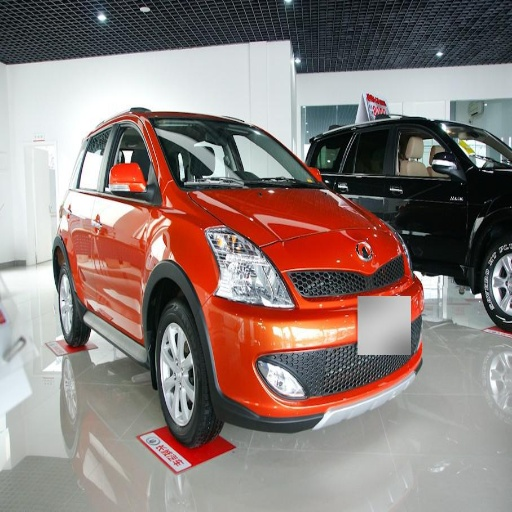back_right_door: (67, 121, 117, 304)
front_bumper: (202, 269, 414, 421)
front_right_door: (96, 119, 158, 323)
front_right_light: (205, 226, 294, 310)
tailgate: (310, 271, 399, 299)
